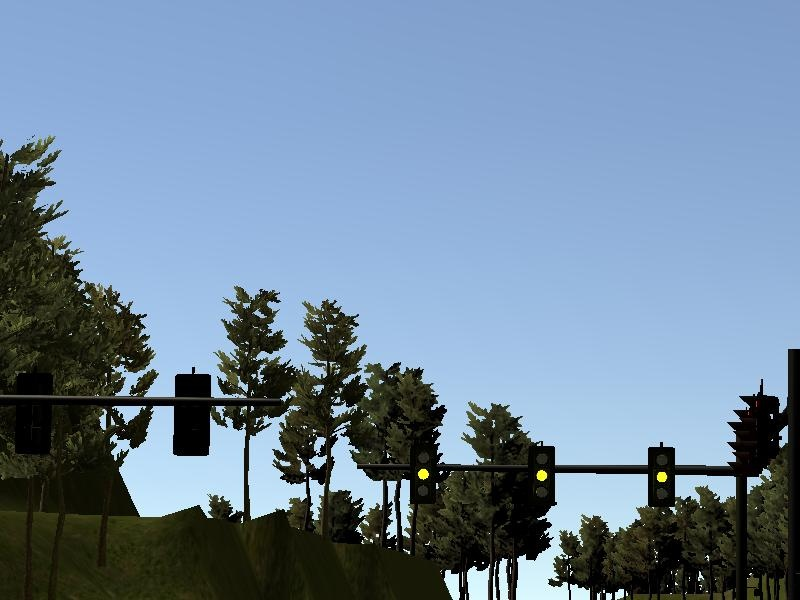yellow: (523, 441, 559, 509), (644, 442, 679, 509), (407, 443, 437, 508)
